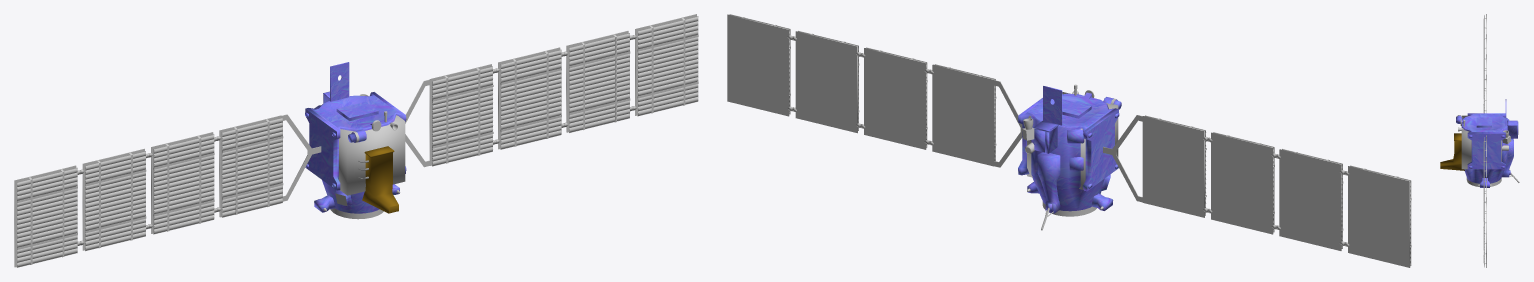
Rendered from deep_space_1_11.obj.
The picture shows the model from 3 angles, left to right: view 1: azimuth 30°, elevation 25°; view 2: azimuth 150°, elevation 25°; view 3: azimuth 270°, elevation 25°; orthographic projection. The views are drawn at different scales.
Visible parts, largest first — view 1: shiny_panel_Deep_Space_1.014, tex_01_Deep_Space_1.010, foil_gold_Deep_Space_1.001, _root_Cube.004, black_krinkle_Deep_Space_1.002, foil_silver_Deep_Space_1.029; view 2: tex_01_Deep_Space_1.010, foil_gold_Deep_Space_1.001, black_krinkle_Deep_Space_1.002, foil_silver_Deep_Space_1.029, shiny_panel_Deep_Space_1.014, _root_Cube.004; view 3: foil_gold_Deep_Space_1.001, black_krinkle_Deep_Space_1.002, tex_01_Deep_Space_1.010, _root_Cube.004, foil_silver_Deep_Space_1.029, shiny_panel_Deep_Space_1.014.
Boxes of the visible parts, x1,y1,x2,y2 form: shiny_panel_Deep_Space_1.014: (17,17,698,267); tex_01_Deep_Space_1.010: (14,14,698,267); foil_gold_Deep_Space_1.001: (305,62,406,213); _root_Cube.004: (339,115,405,195); black_krinkle_Deep_Space_1.002: (305,109,378,190); foil_silver_Deep_Space_1.029: (323,91,377,178); tex_01_Deep_Space_1.010: (727,14,1411,267); foil_gold_Deep_Space_1.001: (1018,86,1121,213); black_krinkle_Deep_Space_1.002: (1062,106,1118,190); foil_silver_Deep_Space_1.029: (1033,99,1090,170); shiny_panel_Deep_Space_1.014: (730,14,1410,265); _root_Cube.004: (1027,92,1118,189); foil_gold_Deep_Space_1.001: (1440,99,1513,187); black_krinkle_Deep_Space_1.002: (1467,125,1505,169); tex_01_Deep_Space_1.010: (1456,14,1519,267); _root_Cube.004: (1461,115,1501,169); foil_silver_Deep_Space_1.029: (1476,117,1518,138); shiny_panel_Deep_Space_1.014: (1484,15,1484,266).
Size of the model in its own units: 11.8 by 2.22 by 1.96.
